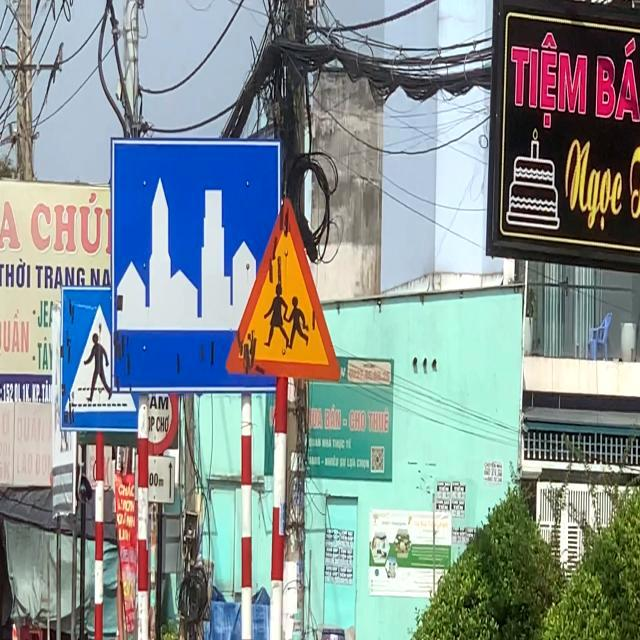Tre em: (226, 196, 342, 383)
